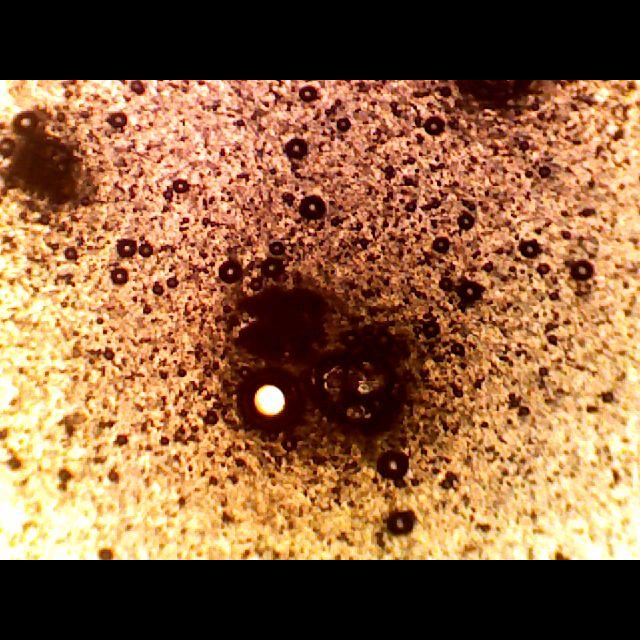Fragment: (1, 107, 98, 211), (307, 347, 408, 435), (240, 277, 336, 353)
microbeads: (232, 358, 304, 438)
